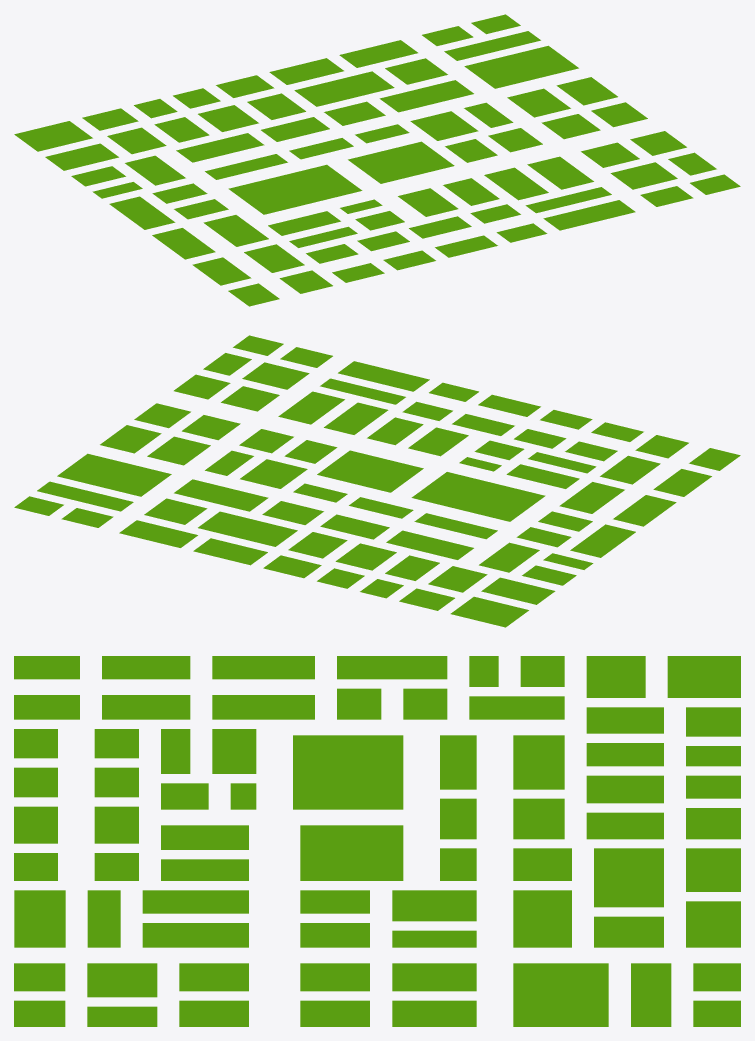
The model's file is Lands 1.fbx.
The picture shows the model from 3 angles, top to bottom: view 1: azimuth 30°, elevation 25°; view 2: azimuth 150°, elevation 25°; view 3: azimuth 270°, elevation 25°; orthographic projection. The views are drawn at different scales.
Parts seen in each view (by area): view 1: Cube.952, Cube.980, Cube.951, Cube.975, Cube.979, Cube.960, Cube.1006, Cube.969, Cube.1004, Cube.984, Cube.981, Cube.977 (+57 smaller); view 2: Cube.952, Cube.980, Cube.951, Cube.975, Cube.979, Cube.960, Cube.1006, Cube.969, Cube.1004, Cube.981, Cube.984, Cube.977 (+57 smaller); view 3: Cube.952, Cube.980, Cube.951, Cube.975, Cube.979, Cube.960, Cube.1006, Cube.969, Cube.984, Cube.1004, Cube.954, Cube.981 (+59 smaller).
Boxes of the visible parts, x1=… form: Cube.952: x1=228, y1=164, x2=362, y2=214; Cube.980: x1=464, y1=45, x2=578, y2=88; Cube.951: x1=348, y1=141, x2=454, y2=183; Cube.975: x1=294, y1=71, x2=394, y2=106; Cube.979: x1=379, y1=80, x2=473, y2=112; Cube.960: x1=14, y1=121, x2=92, y2=151; Cube.1006: x1=543, y1=200, x2=635, y2=230; Cube.969: x1=176, y1=133, x2=264, y2=162; Cube.1004: x1=527, y1=156, x2=593, y2=189; Cube.984: x1=410, y1=111, x2=478, y2=140; Cube.981: x1=444, y1=31, x2=540, y2=60; Cube.977: x1=339, y1=40, x2=417, y2=67; Cube.952: x1=411, y1=472, x2=545, y2=521; Cube.980: x1=57, y1=453, x2=171, y2=496; Cube.951: x1=317, y1=450, x2=423, y2=492; Cube.975: x1=198, y1=511, x2=297, y2=546; Cube.979: x1=174, y1=479, x2=268, y2=511; Cube.960: x1=450, y1=596, x2=528, y2=627; Cube.1006: x1=338, y1=361, x2=429, y2=391; Cube.969: x1=386, y1=530, x2=473, y2=559; Cube.1004: x1=278, y1=391, x2=344, y2=424; Cube.981: x1=37, y1=481, x2=133, y2=511; Cube.984: x1=240, y1=459, x2=307, y2=488; Cube.977: x1=119, y1=520, x2=197, y2=547; Cube.952: x1=293, y1=735, x2=403, y2=809; Cube.980: x1=513, y1=963, x2=608, y2=1026; Cube.951: x1=300, y1=825, x2=403, y2=880; Cube.975: x1=594, y1=848, x2=663, y2=907; Cube.979: x1=513, y1=890, x2=571, y2=947; Cube.960: x1=667, y1=656, x2=740, y2=697; Cube.1006: x1=14, y1=890, x2=65, y2=947; Cube.969: x1=513, y1=735, x2=564, y2=789; Cube.984: x1=392, y1=890, x2=476, y2=921; Cube.1004: x1=142, y1=923, x2=248, y2=947; Cube.954: x1=337, y1=656, x2=447, y2=679; Cube.981: x1=631, y1=963, x2=671, y2=1026.
Bounding box in the file's own units: 23900 × 1.91e-06 × 19800.
